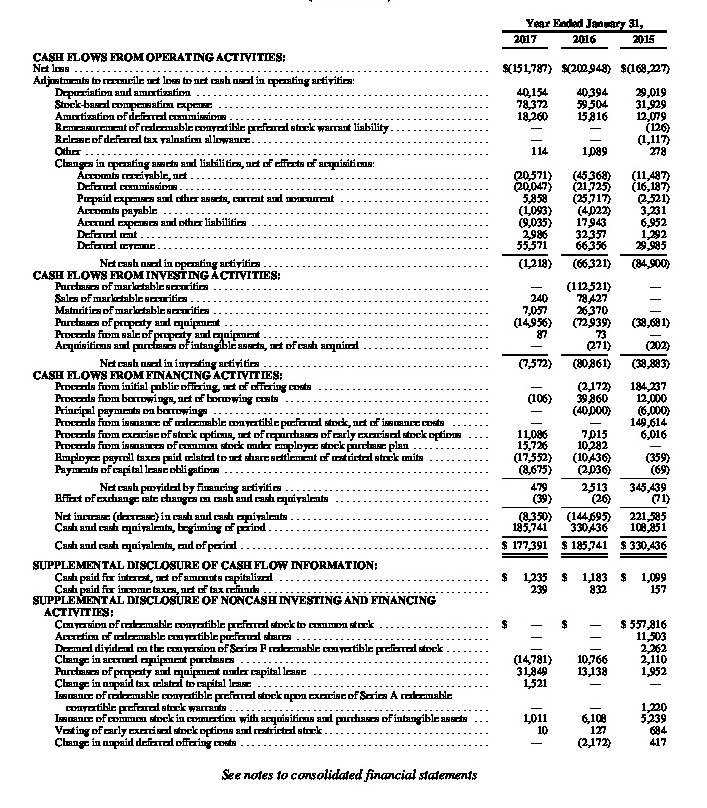table: (0, 0, 707, 808)
